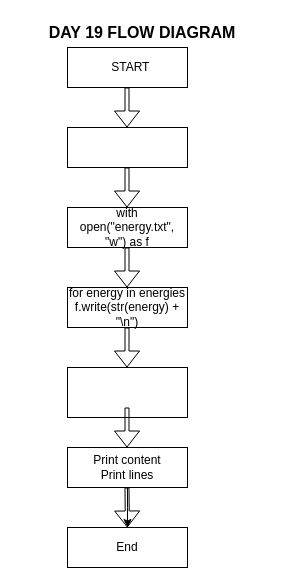
Image size: 284x585. Some labels were removed from this diagram. Here are the shapes that lost their labels. From the top down, the centre of each, then its label:
[127,147]: energies = [50, 60, 70, 80, 90]
[127,392]: with open("energy.txt", "r") as f content = f.readlines()
